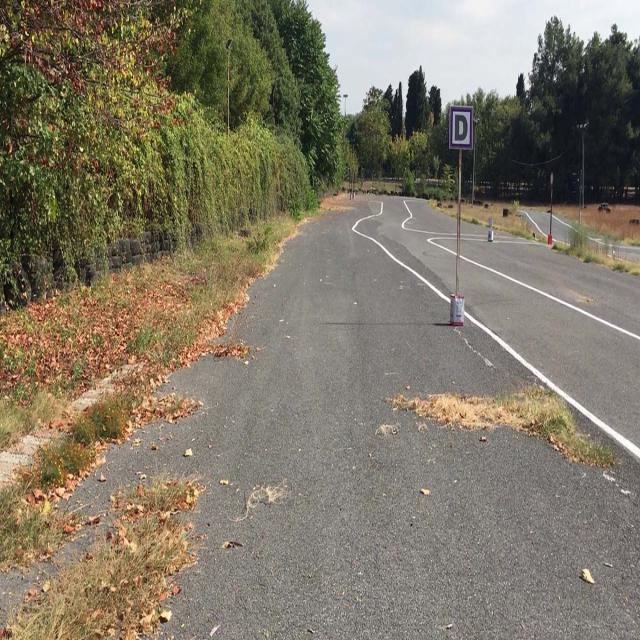durak: (450, 107, 473, 149)
